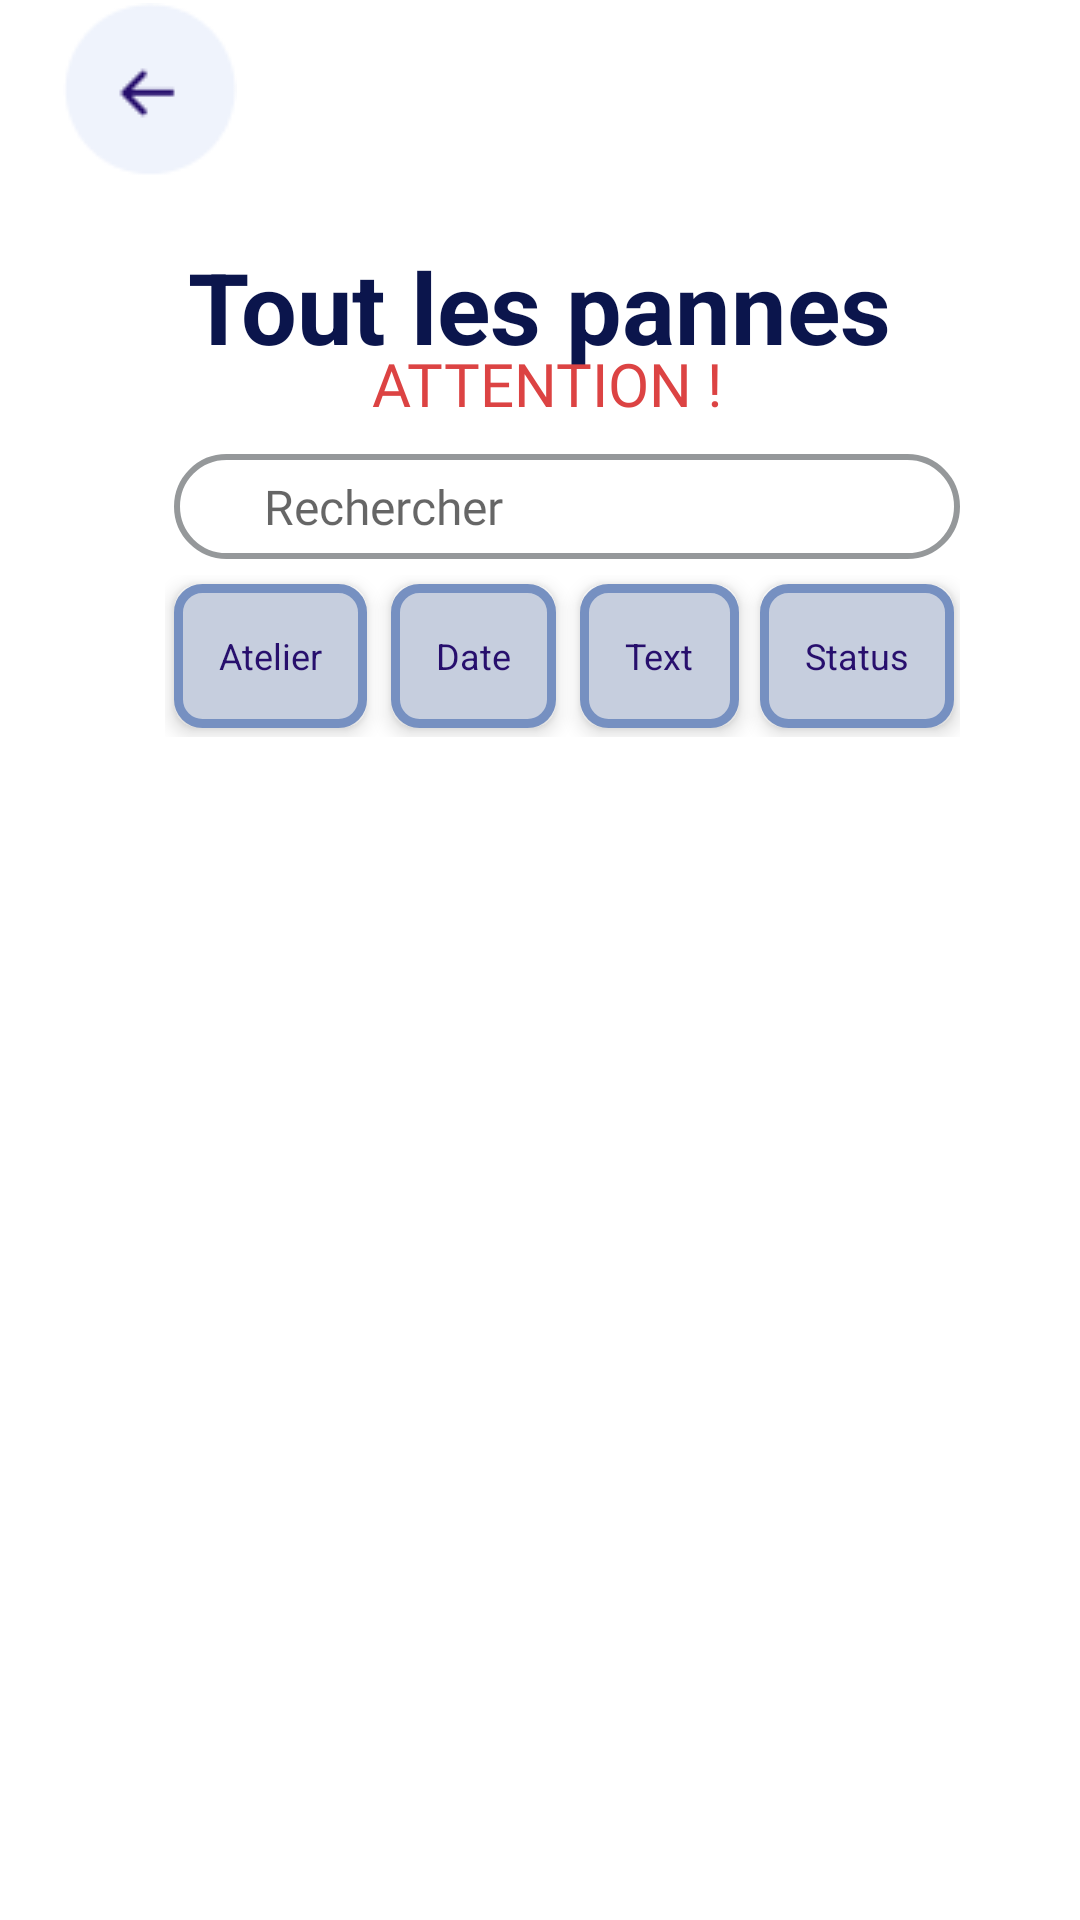

Screen size 1080 x 1920. Icon name, then its box in pixels as detection(x1, y1, x2, y2):
arrow: detection(66, 5, 235, 174)
